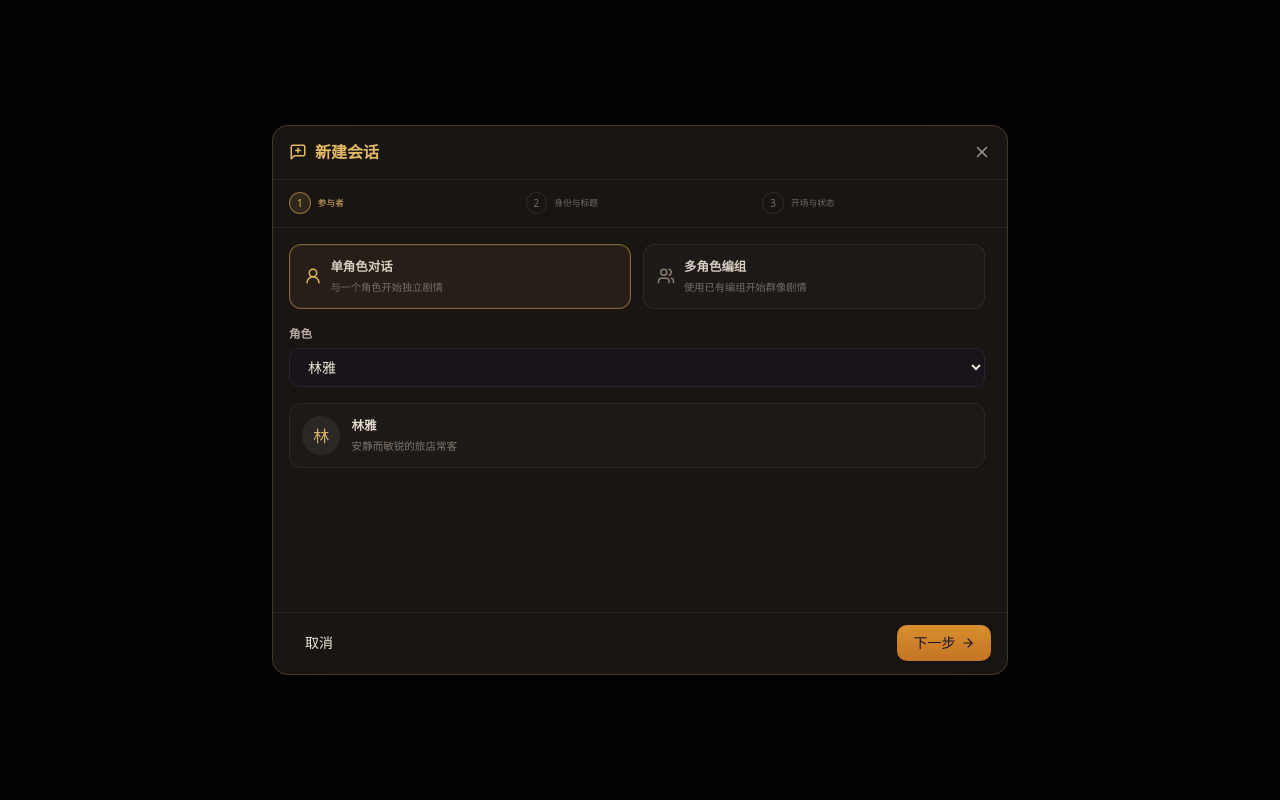
Test case: NewSessionWizard › shows greeting sources and a live preview for the selected opening
Expected: the dialog "新建会话" is shown, [272, 125, 1008, 675]
Click the button "下一步" at [944, 644], box [897, 626, 991, 662]
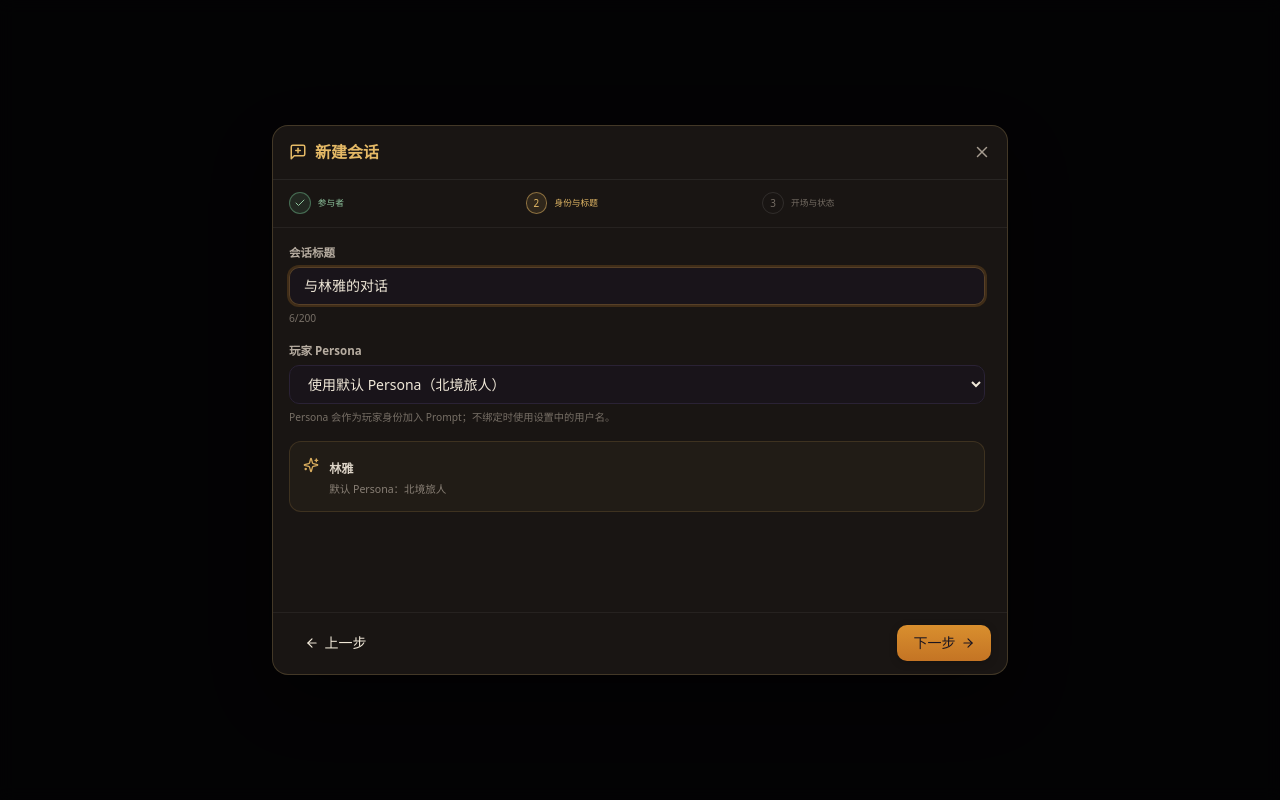
Click the button "下一步" at [944, 644], box [897, 626, 991, 662]
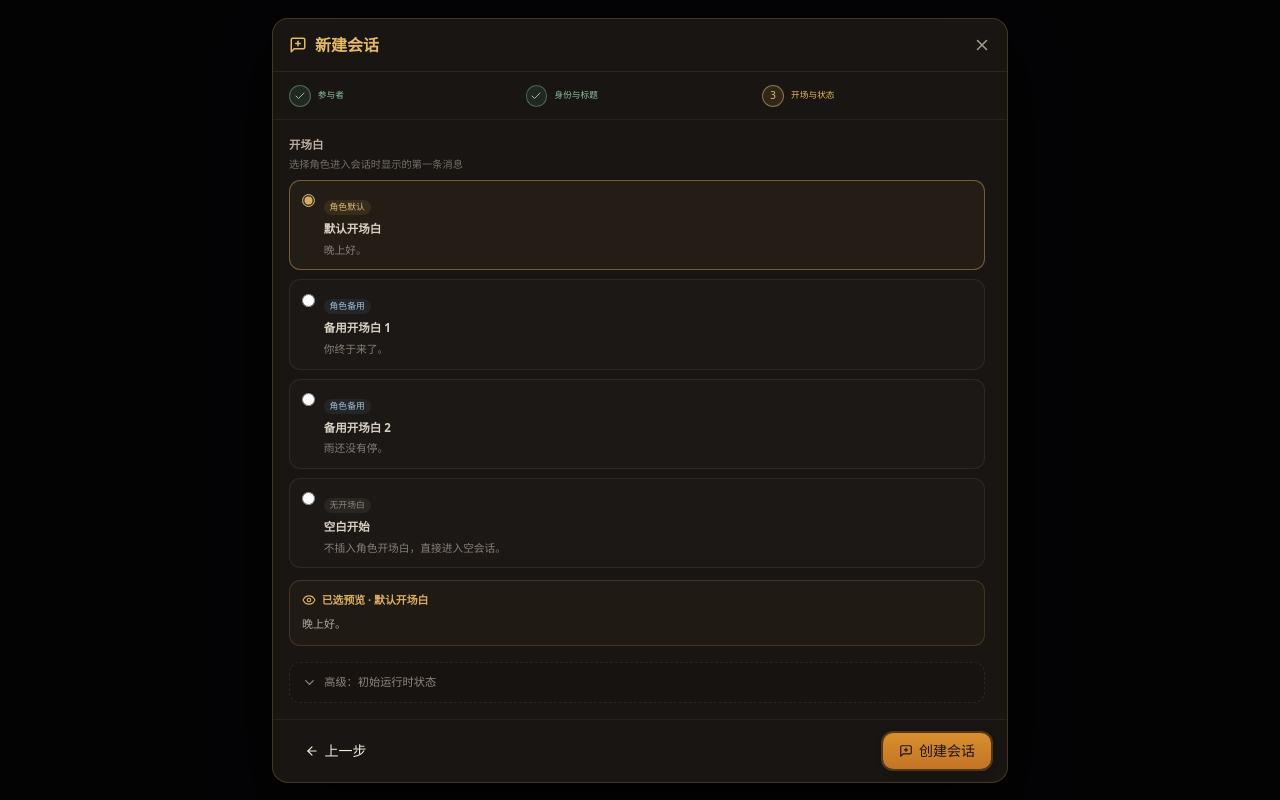
Expected: the text "角色默认" is shown, [324, 200, 370, 215]
Expected: the text "角色备用" is shown 2 times, [324, 299, 370, 314]; [324, 399, 370, 414]
Click the text "备用开场白 2" at [357, 427], box [324, 420, 391, 434]
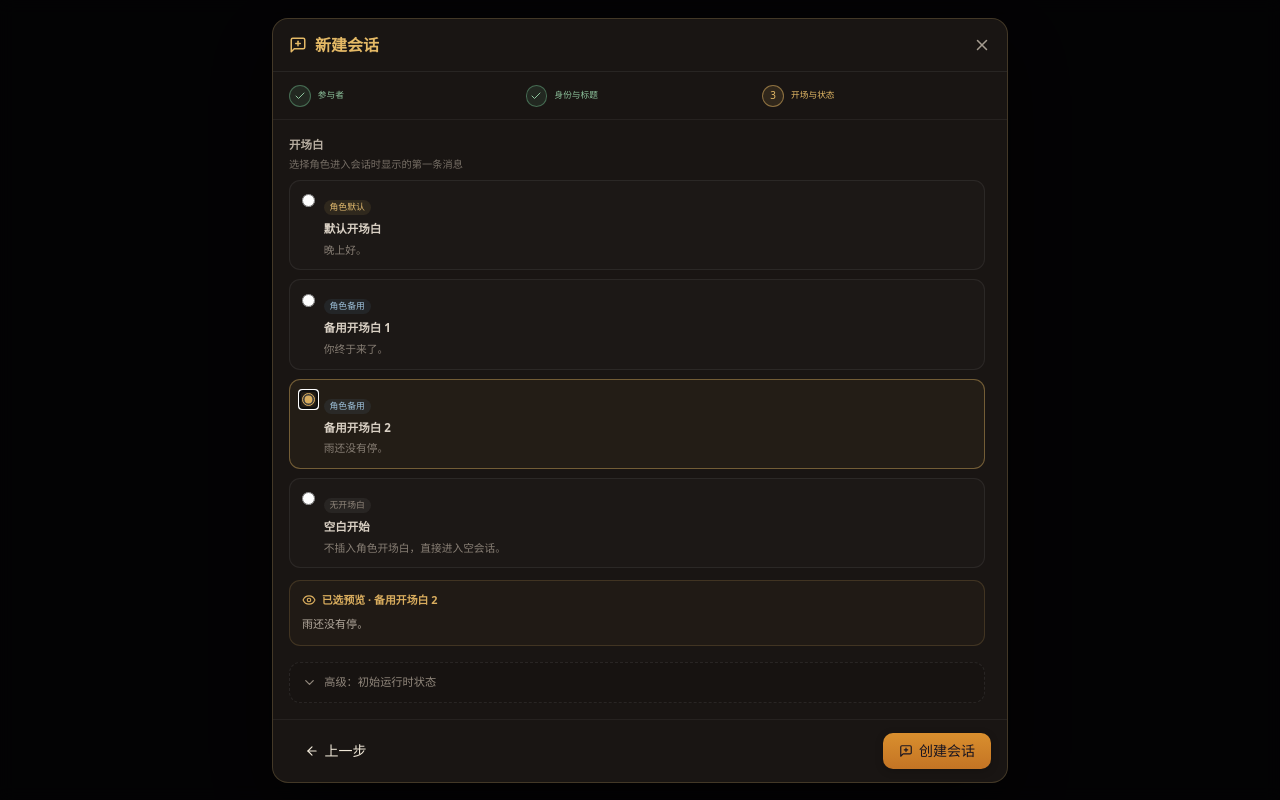
Expected: the text "已选预览 · 备用开场白 2" is shown, [322, 592, 438, 608]
